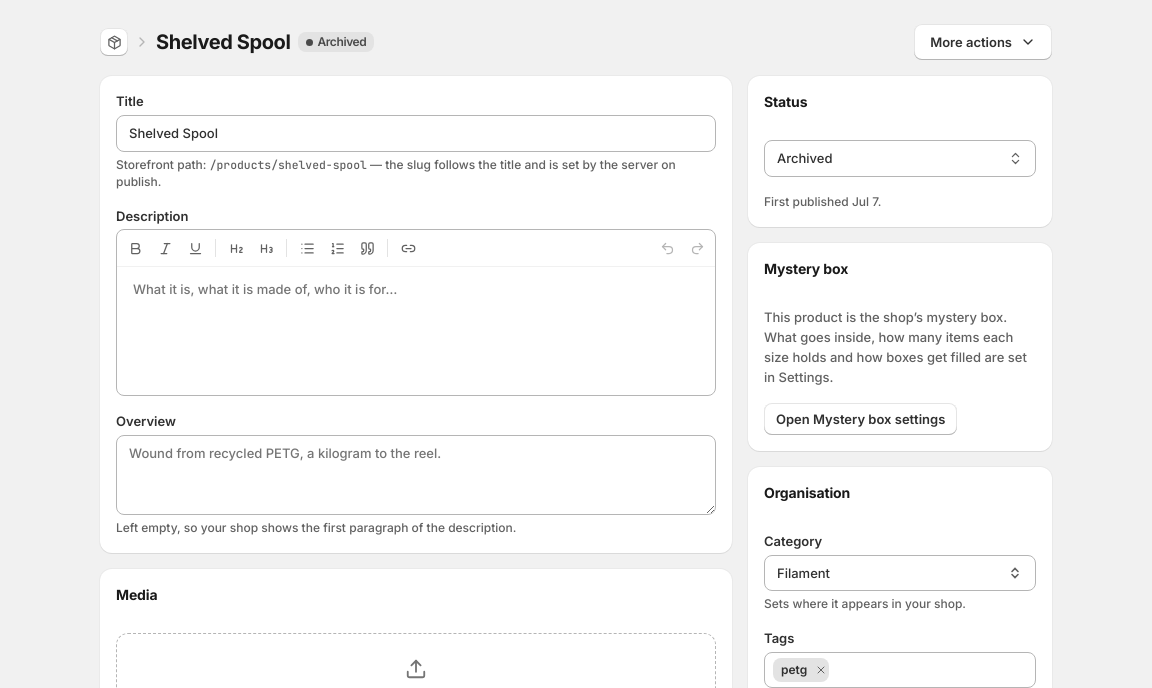
Scenario: the product editor › runs archived→active as unarchive then publish, in that order
The image size is (1152, 688).
Check: the field showing "Shelved Spool" is shown, box [116,115,716,152]
Click the button with aria-label "Product status" at (805, 158), box [764,140,1036,177]
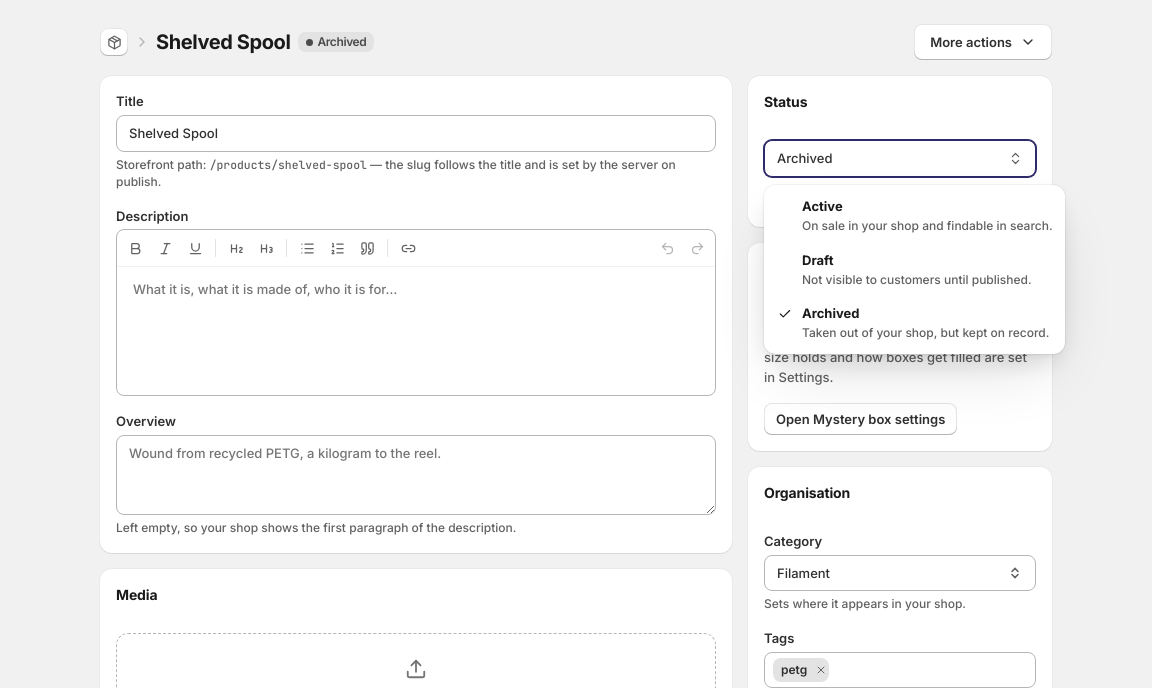
Click the option "Active On sale in your shop and findable in search." at (914, 216), box [768,189,1061,243]
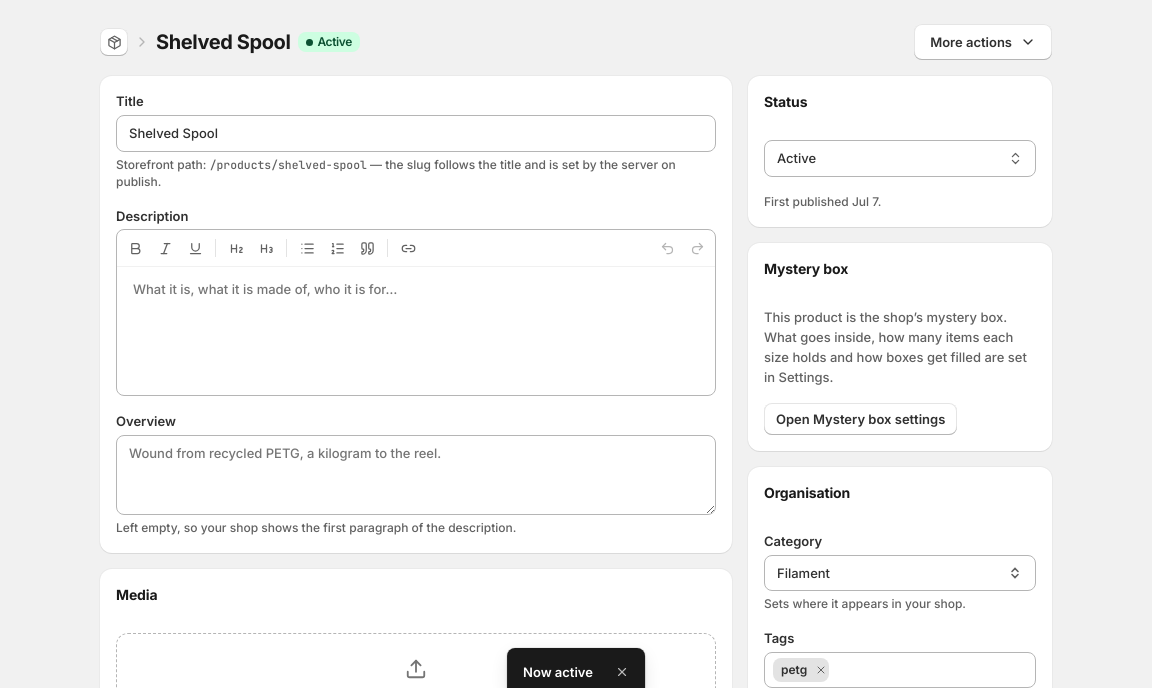
Check: the text "Now active" is shown, box [523,663,593,681]
